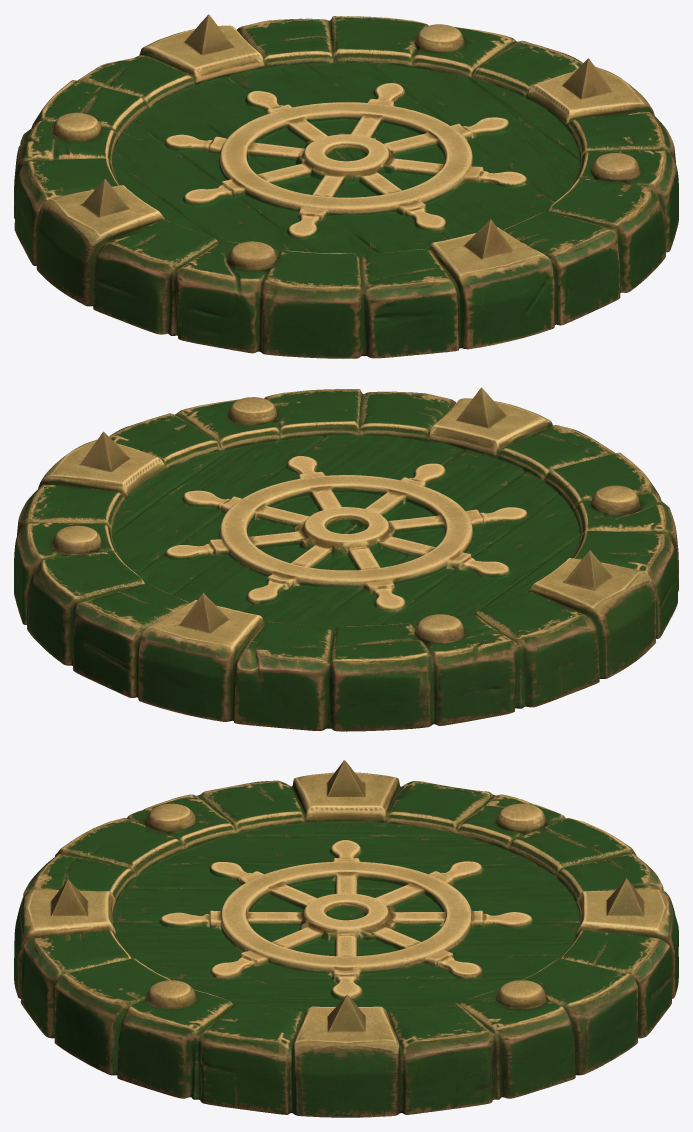
File: chip_1.glb
3 views of the same model, one above another, from view 1: azimuth 30°, elevation 25°; view 2: azimuth 150°, elevation 25°; view 3: azimuth 270°, elevation 25° (orthographic).
Size of the model in its own units: 1.9 by 0.3172 by 1.9.
1 material, 1 textured.
